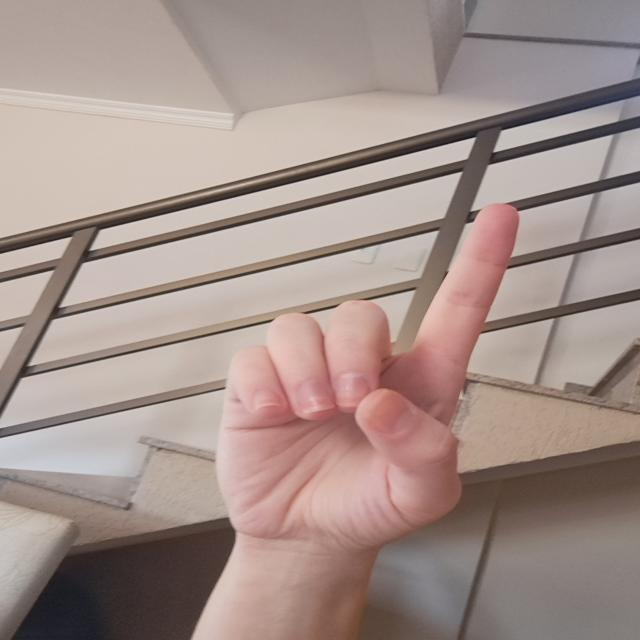D2: (207, 192, 518, 549)
